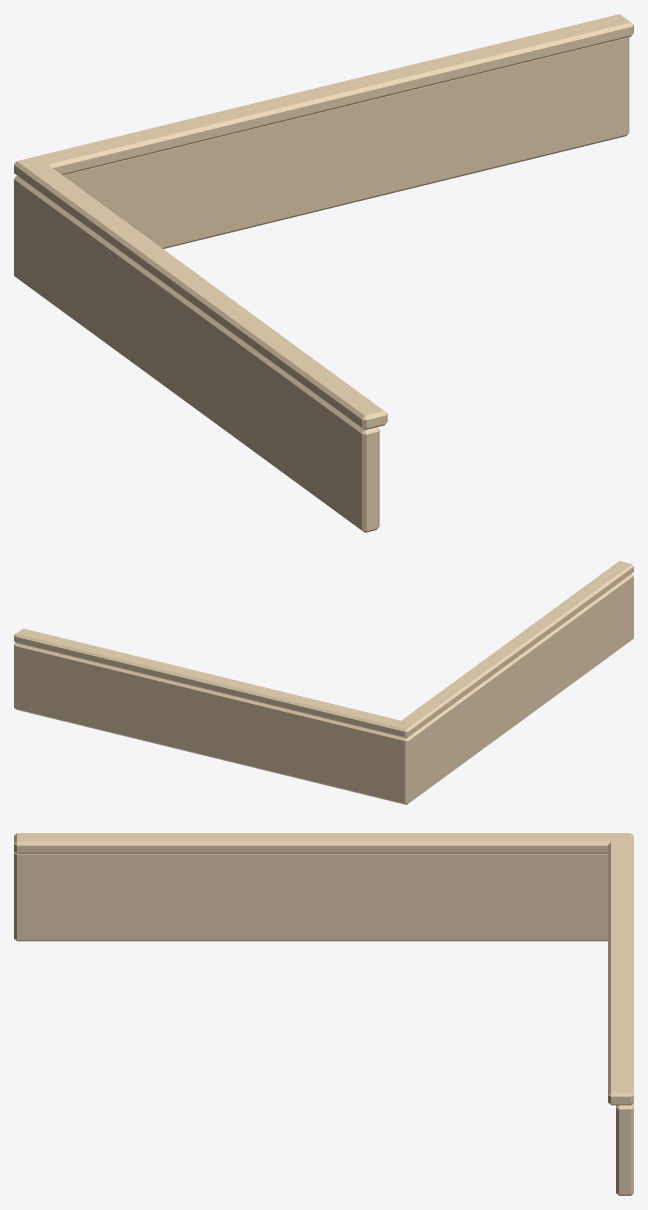
The model's file is jelly-friends-playroom-skirting-corner-9f925912__27631.glb.
3 renders of one model, top to bottom at view 1: azimuth 30°, elevation 25°; view 2: azimuth 150°, elevation 25°; view 3: azimuth 270°, elevation 25°, orthographic. The views are drawn at different scales.
Visible parts, largest first — view 1: skirting-corner; view 2: skirting-corner; view 3: skirting-corner.
Boxes of the visible parts, left/top/right/bottom form: skirting-corner: left=14, top=14, right=633, bottom=532; skirting-corner: left=14, top=561, right=633, bottom=804; skirting-corner: left=14, top=833, right=633, bottom=1195.
Size of the model in its own units: 0.62 by 0.114 by 0.62.
